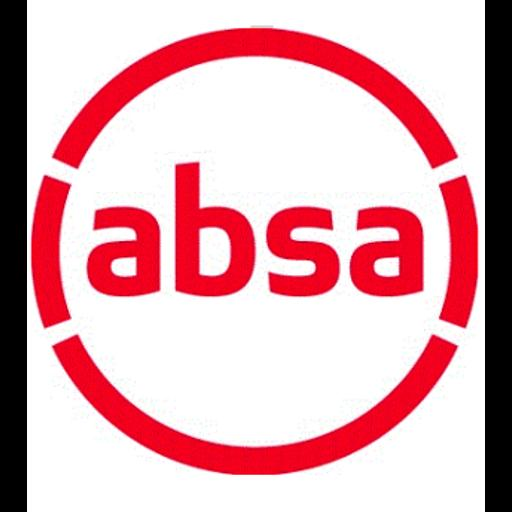Absa Group: (27, 0, 485, 512)
